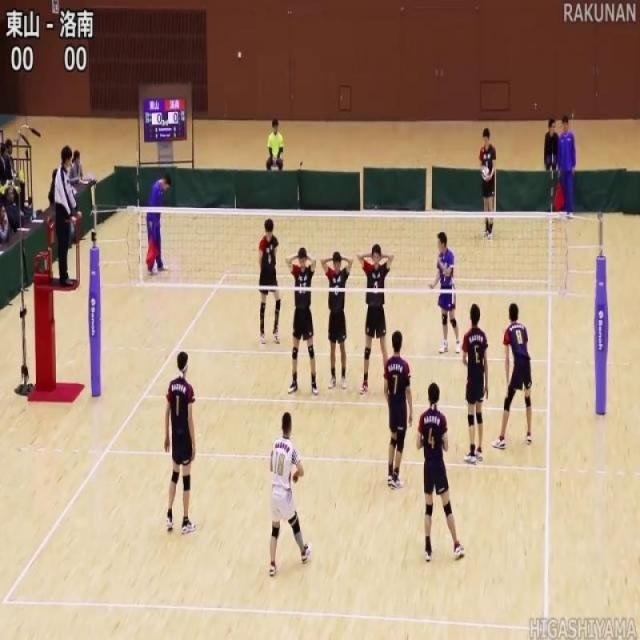volleyball: (480, 165, 491, 182)
